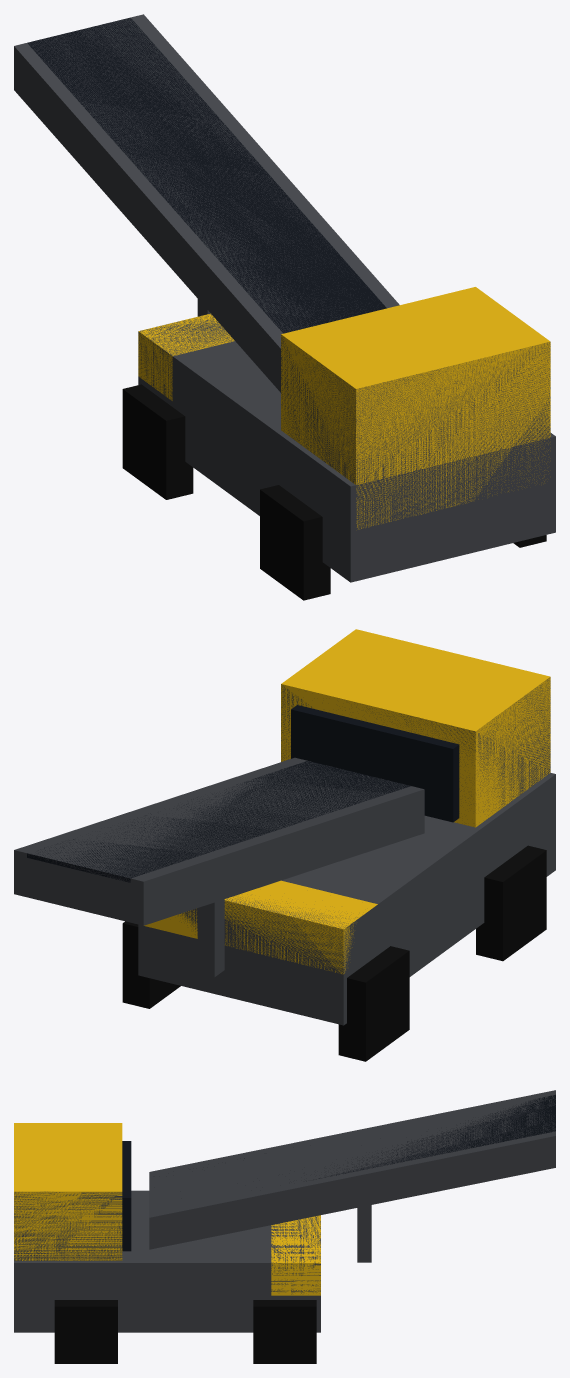
Rendered from bne_gse_belt_yellow.dae.
The picture shows the model from 3 angles, top to bottom: view 1: azimuth 30°, elevation 25°; view 2: azimuth 150°, elevation 25°; view 3: azimuth 270°, elevation 25°; orthographic projection. The views are drawn at different scales.
Visible parts, largest first — view 1: bne_gse_belt_yellow160, Colmesh_bne_gse_belt_yellow-1, bne_gse_belt_yellow16; view 2: bne_gse_belt_yellow160, Colmesh_bne_gse_belt_yellow-1, bne_gse_belt_yellow16; view 3: Colmesh_bne_gse_belt_yellow-1, bne_gse_belt_yellow160, bne_gse_belt_yellow16.
Boxes of the visible parts, box(x1,y1,x2,y2) form: bne_gse_belt_yellow160: box(14, 17, 550, 584); Colmesh_bne_gse_belt_yellow-1: box(14, 14, 555, 582); bne_gse_belt_yellow16: box(122, 384, 546, 600); bne_gse_belt_yellow160: box(14, 629, 550, 1024); Colmesh_bne_gse_belt_yellow-1: box(14, 678, 555, 1025); bne_gse_belt_yellow16: box(122, 845, 546, 1061); Colmesh_bne_gse_belt_yellow-1: box(14, 1090, 555, 1332); bne_gse_belt_yellow160: box(14, 1094, 555, 1363); bne_gse_belt_yellow16: box(54, 1300, 316, 1363).
Bounding box in the file's own units: 2.25 × 6 × 2.54.
